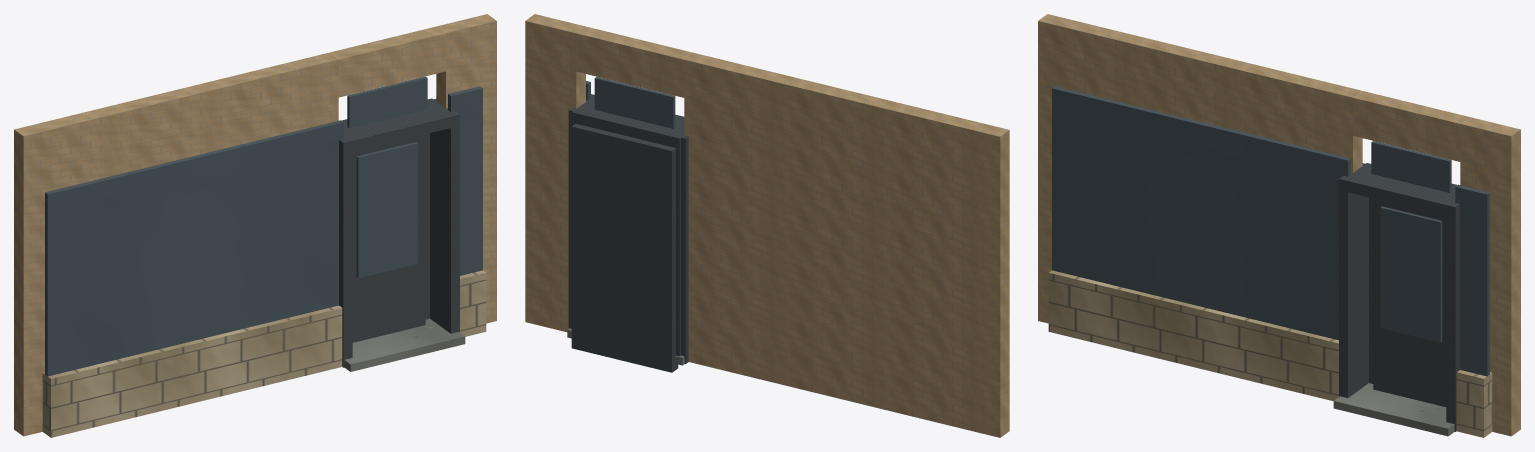
Rendered from storefront-corner-shop.lod2.gltf.
The picture shows the model from 3 angles, left to right: view 1: azimuth 30°, elevation 25°; view 2: azimuth 150°, elevation 25°; view 3: azimuth 330°, elevation 25°; orthographic projection.
Visible parts, largest first — view 1: storefront-corner-shop; view 2: storefront-corner-shop; view 3: storefront-corner-shop.
Part boxes in pixels (x1=…): storefront-corner-shop: x1=14, y1=14, x2=496, y2=437; storefront-corner-shop: x1=525, y1=14, x2=1009, y2=437; storefront-corner-shop: x1=1038, y1=14, x2=1520, y2=437.
Bounding box in the file's own units: 5.2 × 3.22 × 0.64.
Materials: 5 (5 with a texture image).
